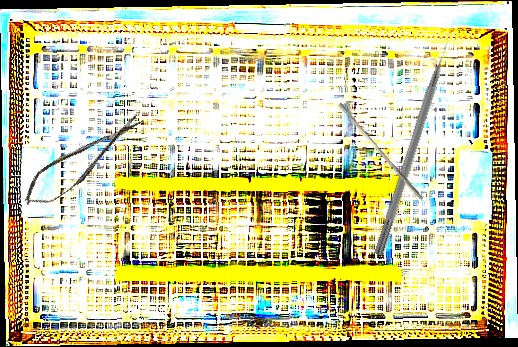Micro Scissor: (15, 106, 153, 215)
Pusher: (373, 28, 459, 257), (334, 102, 428, 201)
